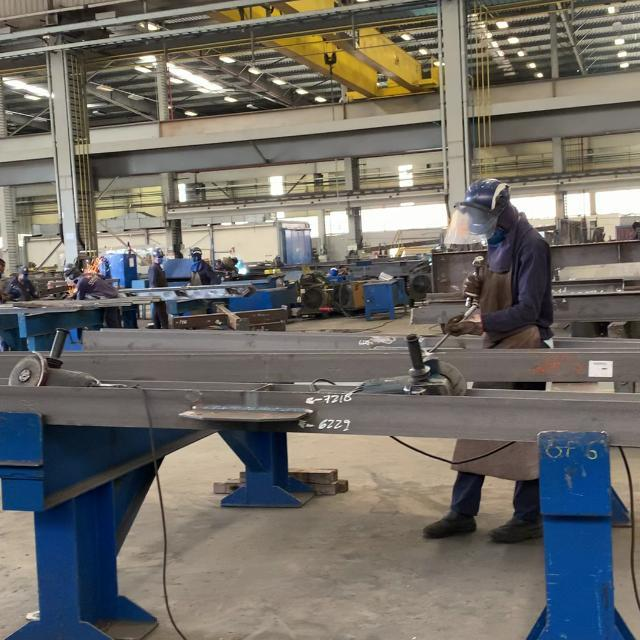eye-glass: (443, 206, 490, 244)
face-shield: (440, 316, 484, 336), (463, 274, 479, 298)
glove: (460, 179, 509, 204)
mask: (423, 177, 551, 545)
safety-shoe: (425, 513, 477, 541), (488, 516, 544, 542)
